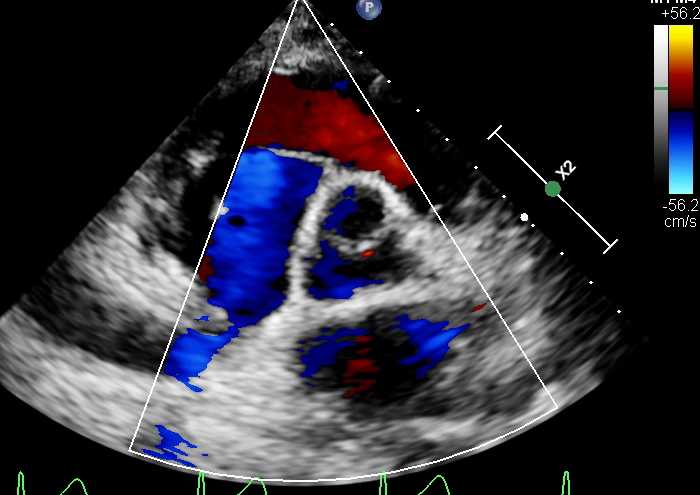TR: (249, 139, 345, 279)
